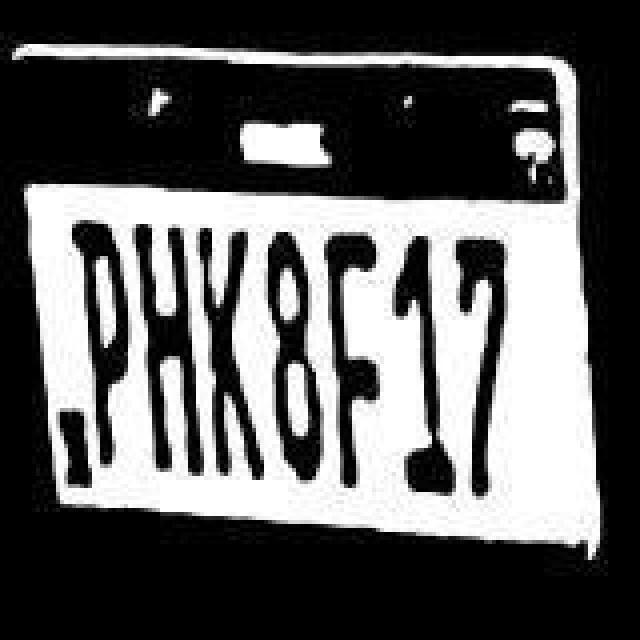1: (384, 212, 456, 508)
7: (450, 230, 510, 506)
8: (268, 212, 324, 508)
F: (322, 230, 390, 498)
H: (132, 210, 204, 486)
K: (196, 212, 268, 492)
P: (66, 214, 134, 490)
